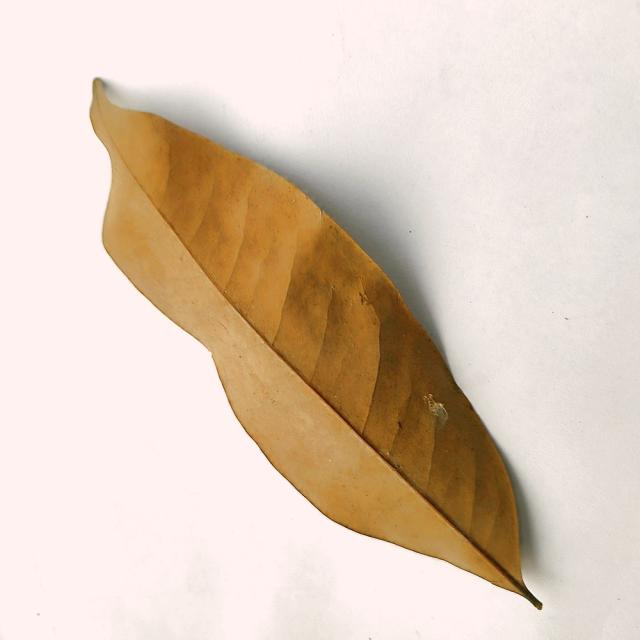Dry_Leaf-Lychee: (88, 79, 537, 606)
